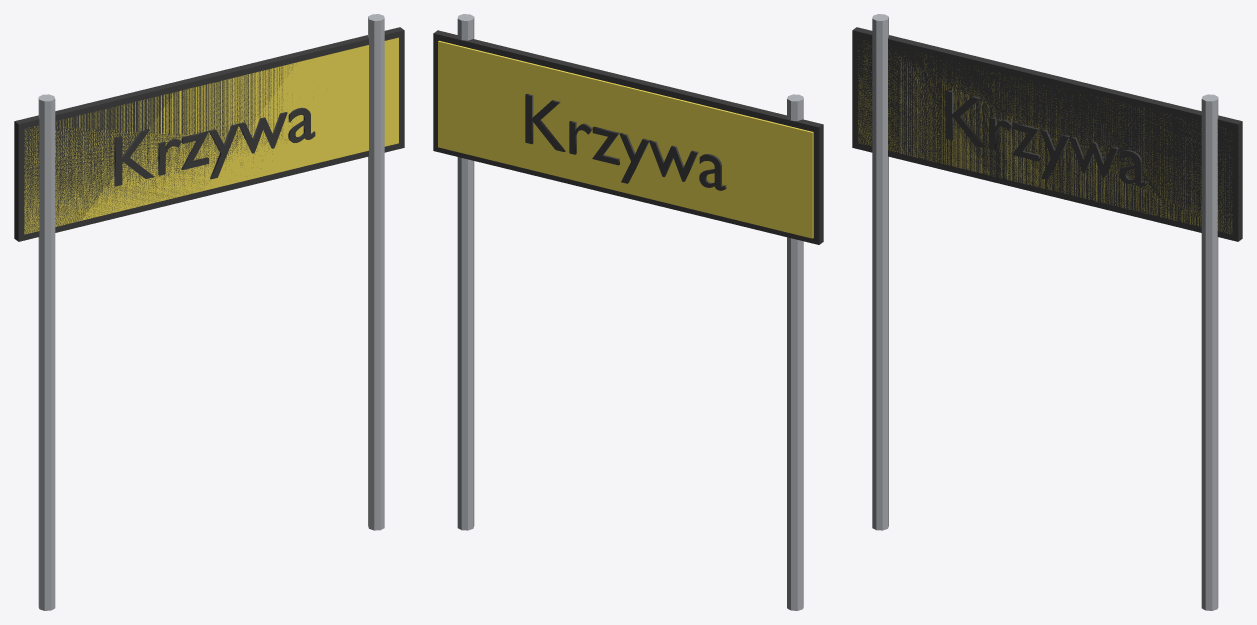
Rendered from Tablica_Krzywa.fbx.
The picture shows the model from 3 angles, left to right: view 1: azimuth 30°, elevation 25°; view 2: azimuth 150°, elevation 25°; view 3: azimuth 330°, elevation 25°; orthographic projection.
Visible parts, largest first — view 1: Tablica_Krzywa; view 2: Tablica_Krzywa; view 3: Tablica_Krzywa.
Boxes of the visible parts, x1,y1,x2,y2 form: Tablica_Krzywa: [14, 14, 404, 610]; Tablica_Krzywa: [433, 14, 823, 610]; Tablica_Krzywa: [852, 14, 1242, 610].
Bounding box in the file's own units: 2.06 × 2.6 × 0.108.
